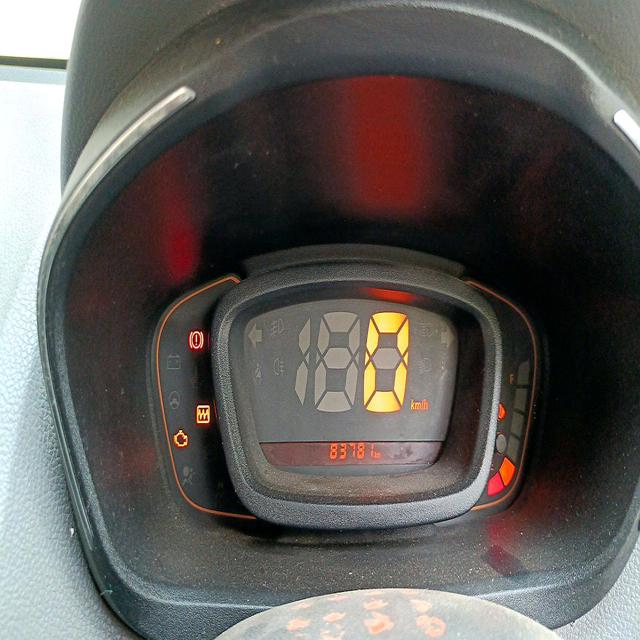odometer: (327, 440, 376, 463)
